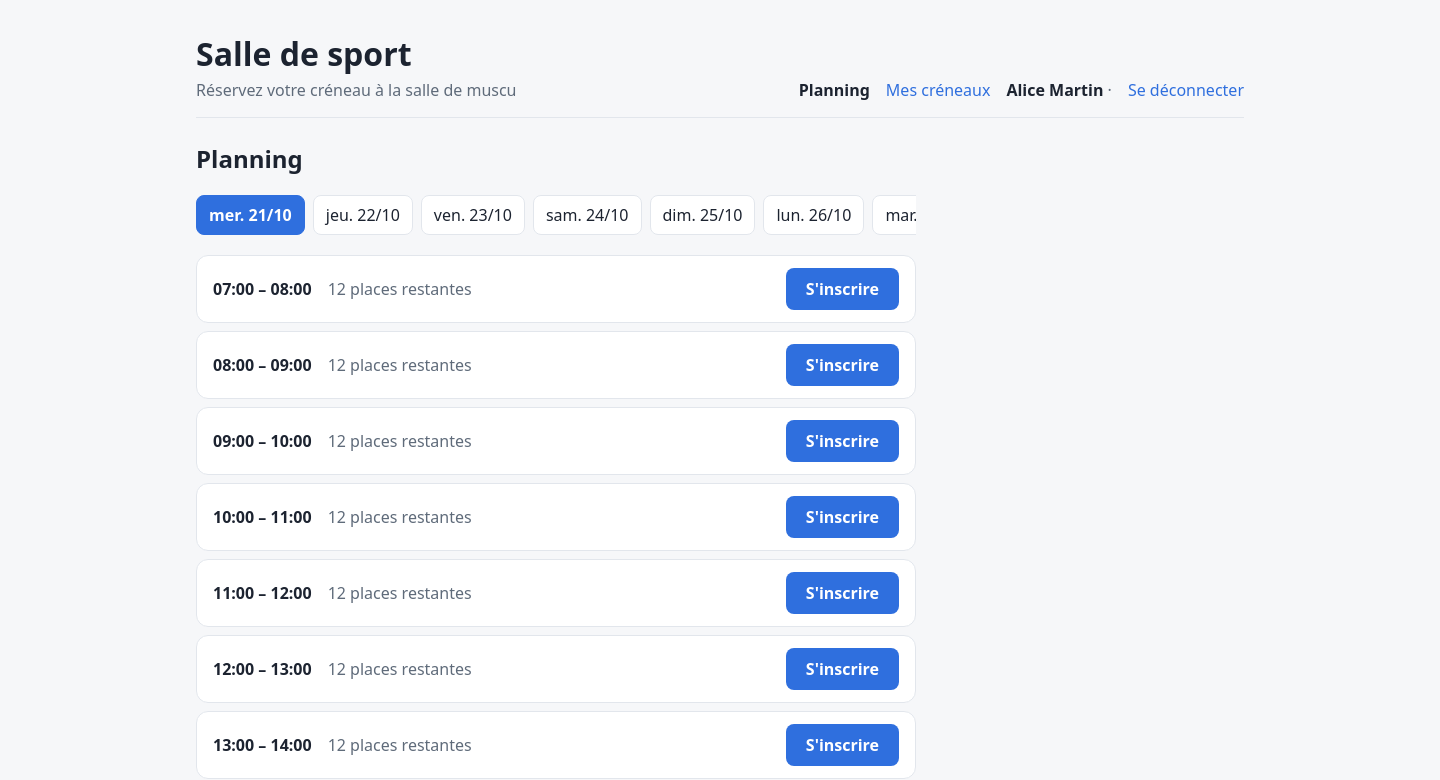
PlanningPage, booking › shows the message of the API for a 403
The width and height of the screenshot is (1440, 780).
Expected: the text "Alice Martin" is shown, [1006, 79, 1112, 101]
Expected: the text "07:00 – 08:00" is shown, [213, 278, 312, 300]
Click the button "S'inscrire" in the row of "11:00 – 12:00".
click(842, 593)  # box [786, 572, 899, 614]
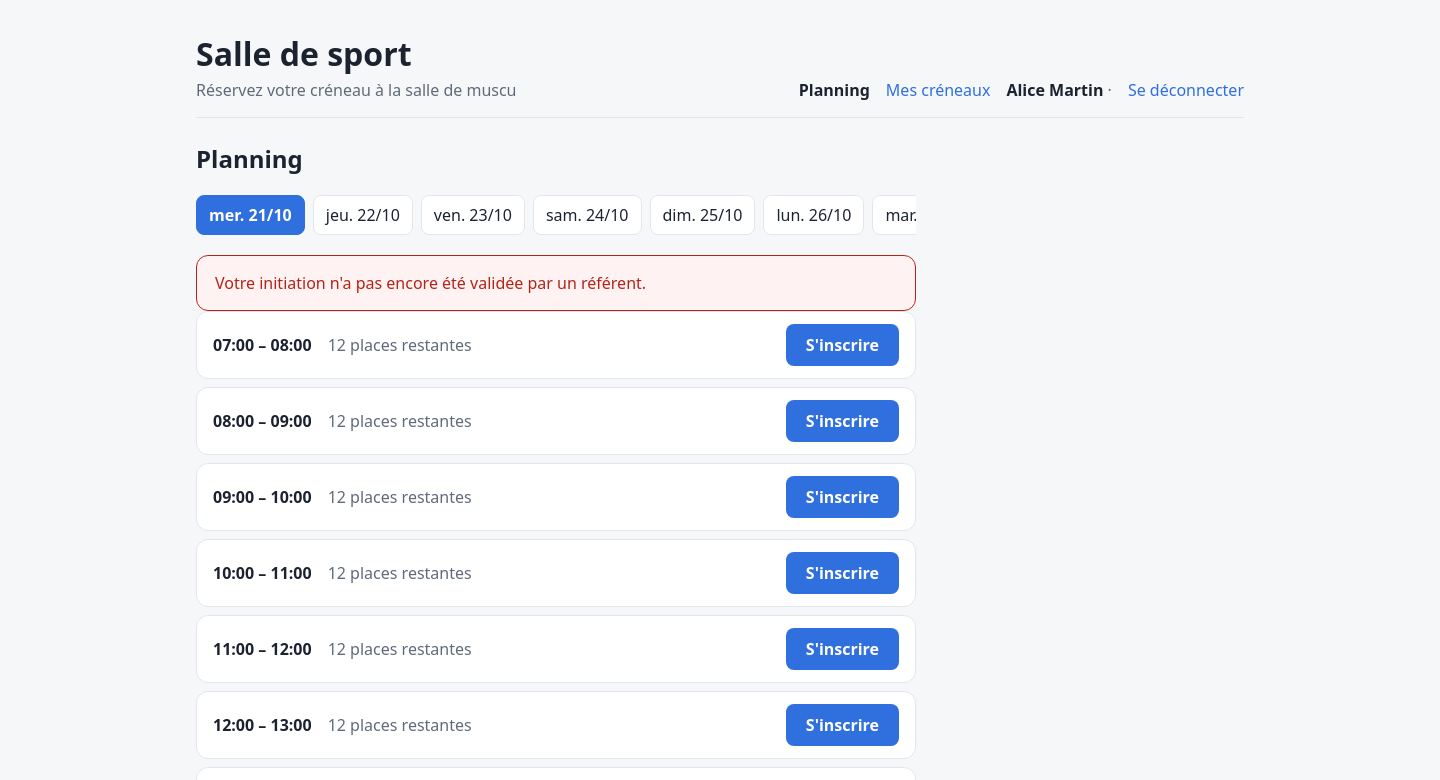
Expected: the heading "Planning" is shown, [196, 142, 303, 175]
Expected: the message reads "Votre initiation n'a pas encore été validée par un référent.", [215, 272, 646, 294]
